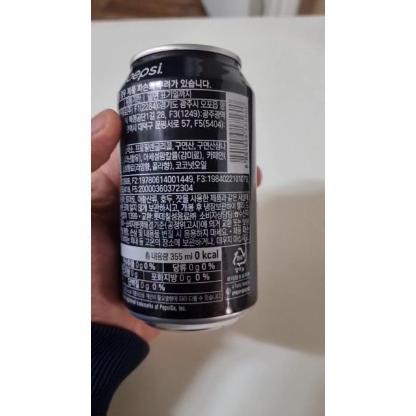Can: (119, 46, 259, 328)
